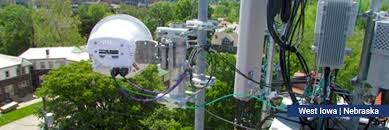ba: (82, 14, 154, 88)
sa: (227, 5, 265, 109)
